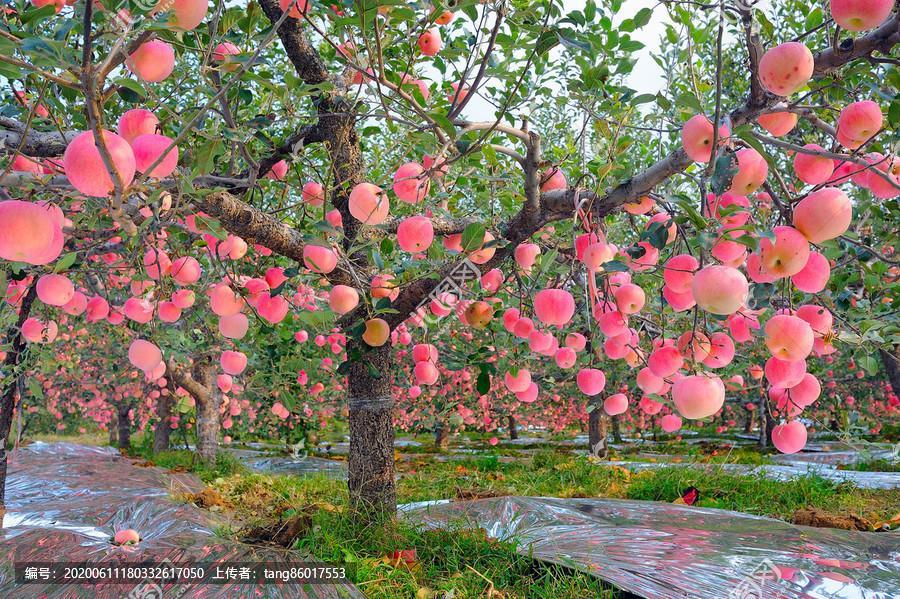apple: (64, 130, 135, 199), (1, 198, 54, 261), (757, 42, 815, 97), (695, 263, 748, 315), (758, 225, 809, 278), (674, 372, 728, 419), (765, 314, 814, 361), (681, 113, 729, 160), (129, 36, 176, 83), (725, 144, 767, 194), (829, 1, 896, 32), (793, 142, 837, 186), (839, 98, 883, 141), (349, 180, 389, 223), (533, 286, 576, 324), (867, 155, 900, 201), (761, 357, 808, 388), (661, 256, 699, 292), (208, 281, 244, 316), (399, 216, 433, 253), (328, 283, 362, 314), (466, 232, 497, 264), (616, 283, 646, 316), (465, 300, 495, 330), (578, 364, 606, 395), (219, 349, 247, 375), (418, 28, 444, 56), (62, 289, 87, 316), (86, 295, 110, 321), (553, 347, 578, 369)
